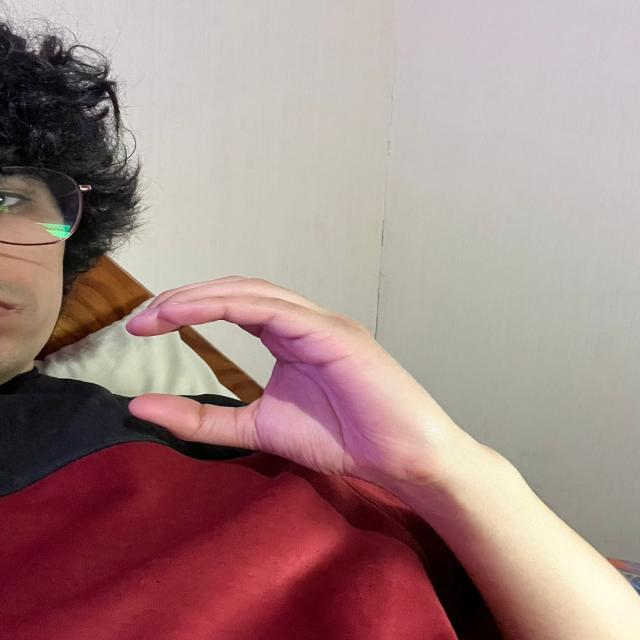C: (116, 257, 428, 493)
